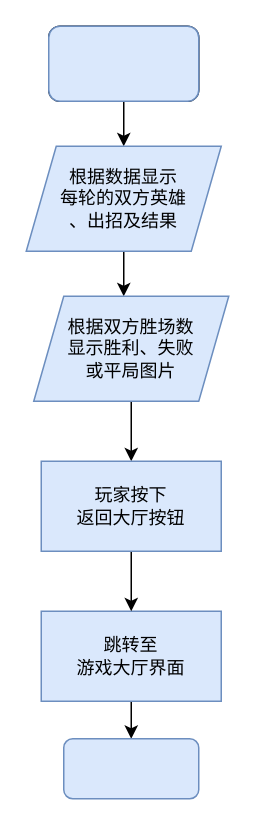
The diagram is 255 pixels wide and 825 high, and some of its shapes have lost their labels. The centre of each missing label's shape, as x and y in pixels:
玩家进入 结算界面: the point at 123,63
结束: the point at 130,768
